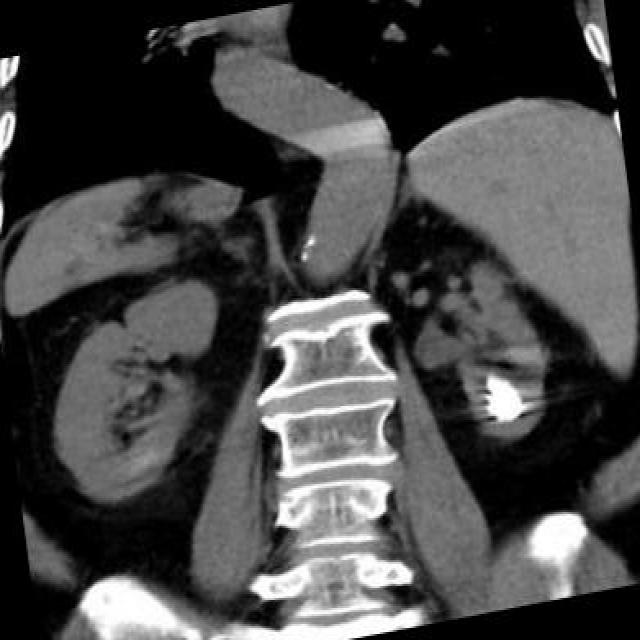Tas_Var: (461, 366, 537, 430)
